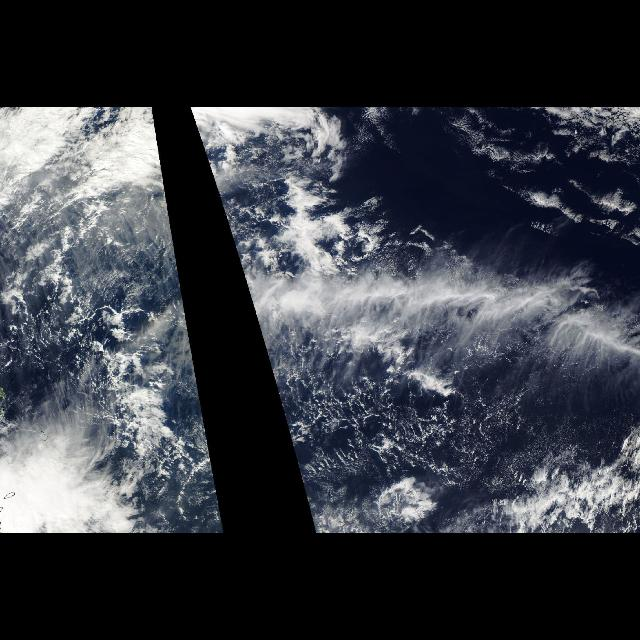Fish: (240, 258, 638, 398), (168, 258, 200, 398)
Gravel: (310, 370, 578, 480), (2, 208, 146, 378)
Sugar: (334, 402, 580, 471)
